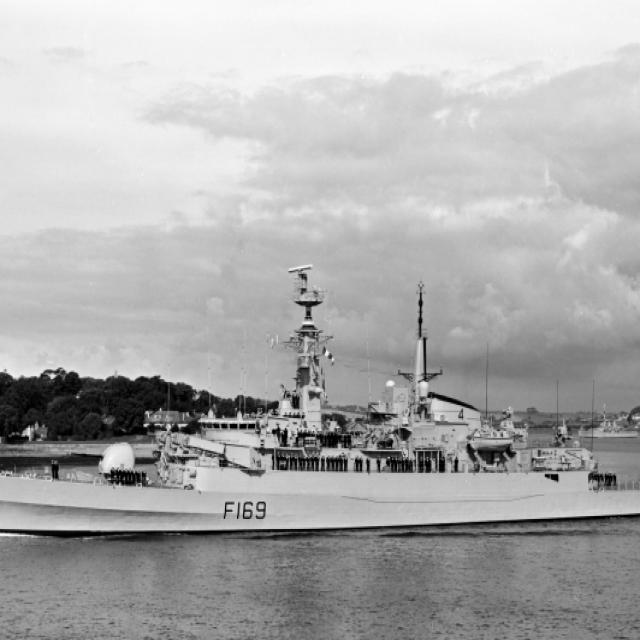Fragata: (1, 268, 640, 546)
